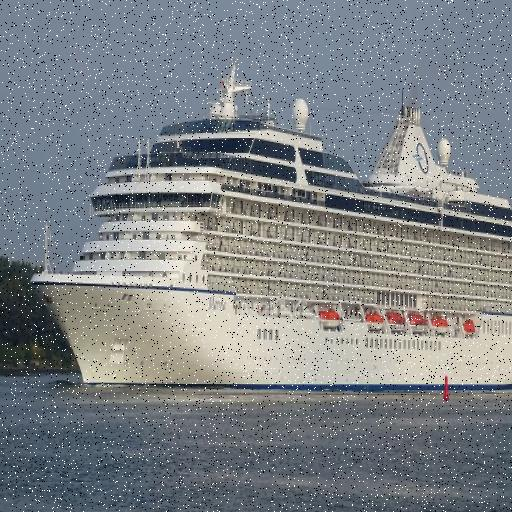cruises: (27, 49, 512, 400)
